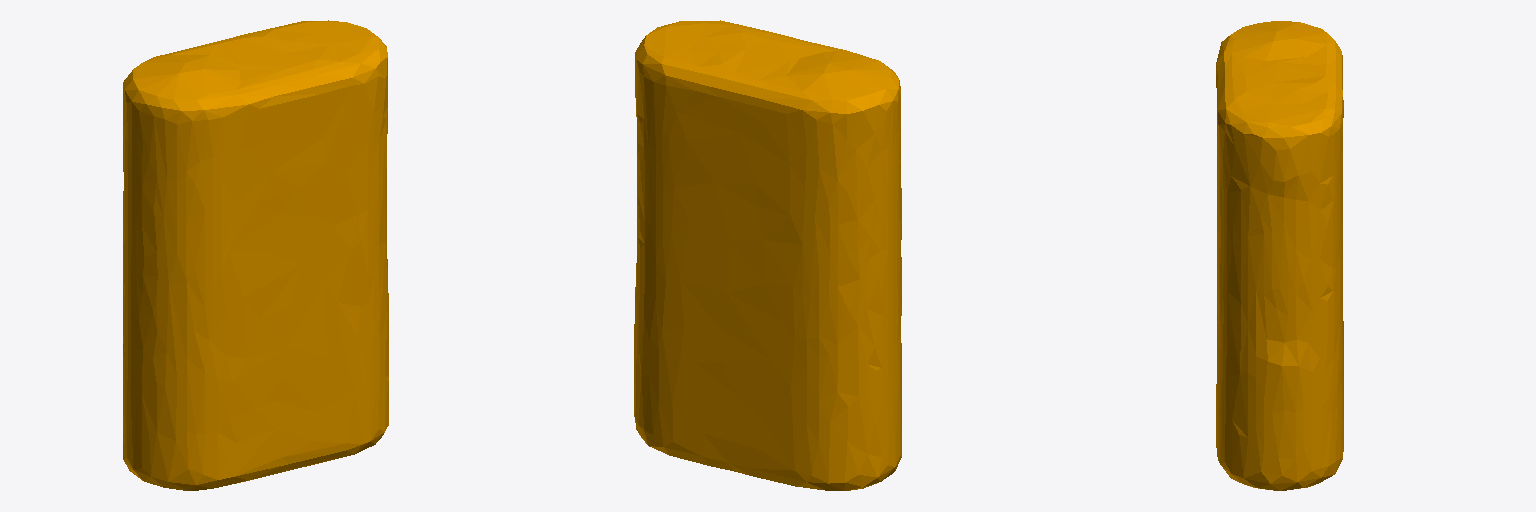
URDF robot description (pitcher_poisson_000):
<?xml version="1.0"?>
<robot name="pitcher_poisson_000">
  <link name="base_link">
    <contact>
      <lateral_friction value="1.0"/>
      <rolling_friction value="0.0"/>
      <contact_cfm value="0.0"/>
      <contact_erp value="1.0"/>
    </contact>
    <inertial>
      <mass value="1.33222498618"/>
      <inertia ixx="1" ixy="0" ixz="0" iyy="1" iyz="0" izz="1"/>
    </inertial>
    <visual>
      <geometry>
        <mesh filename="pitcher_poisson_000_visual.obj"/>
      </geometry>
    </visual>
    <collision>
      <geometry>
        <mesh filename="pitcher_poisson_000_collision.obj"/>
      </geometry>
    </collision>
  </link>
</robot>

--- Facts derived from the render (not from the file) ---
Views: 3 orthographic renders of the robot side by side, from view 1: azimuth 30°, elevation 25°; view 2: azimuth 150°, elevation 25°; view 3: azimuth 270°, elevation 25°.
Model pitcher_poisson_000 with 1 links and 0 joints (none), rooted at base_link, posed every joint at zero.
Links seen in each view (by area): view 1: base_link; view 2: base_link; view 3: base_link.
Link boxes in pixels (x1=…): base_link: x1=123, y1=20, x2=388, y2=490; base_link: x1=634, y1=20, x2=901, y2=490; base_link: x1=1216, y1=21, x2=1343, y2=490.
Bounding box of the posed robot: 0.07 × 0.0331 × 0.1069 m (x, y, z).
1 mesh visuals loaded from 1 distinct referenced files (1 OBJ).